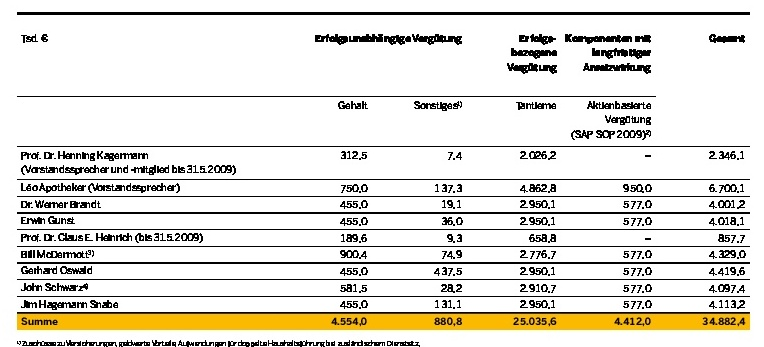table: (0, 0, 764, 347)
